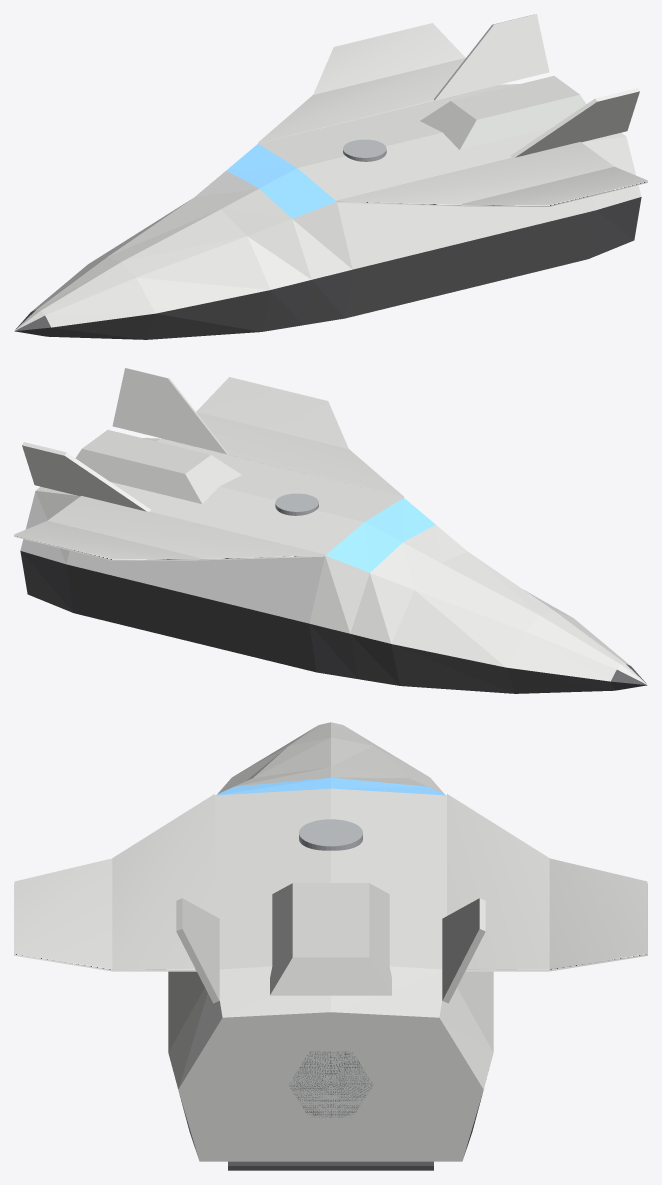
Rendered from _tmp_B4_deployed.glb.
3 renders of one model, top to bottom at view 1: azimuth 30°, elevation 25°; view 2: azimuth 150°, elevation 25°; view 3: azimuth 270°, elevation 25°, orthographic. The views are drawn at different scales.
Visible parts, largest first — view 1: hull, belly_tps, wing_in_port, kit_pod, wing_in_stbd, wing_out_stbd, fin_stbd, glazing, fin_port, wing_out_port, hatch_trunk; view 2: hull, belly_tps, wing_in_stbd, kit_pod, wing_in_port, wing_out_port, fin_port, glazing, fin_stbd, wing_out_stbd, hatch_trunk; view 3: hull, kit_pod, wing_in_stbd, wing_in_port, wing_out_stbd, wing_out_port, fin_stbd, fin_port, torch_nozzle, glazing, body_flap, hatch_trunk.
Boxes of the visible parts, x1,y1,x2,y2 form: hull: (14,84,641,330); belly_tps: (14,197,641,339); wing_in_port: (336,142,613,206); kit_pod: (420,76,586,149); wing_in_stbd: (258,58,500,143); wing_out_stbd: (313,23,465,94); fin_stbd: (434,14,549,100); glazing: (226,144,336,218); fin_port: (511,88,639,157); wing_out_port: (461,166,647,206); hatch_trunk: (343,139,386,161); hull: (20,438,647,684); belly_tps: (20,551,647,693); wing_in_stbd: (48,496,325,560); kit_pod: (75,430,241,503); wing_in_port: (161,412,403,497); wing_out_port: (196,377,348,448); fin_port: (112,368,227,454); glazing: (325,498,435,572); fin_stbd: (22,442,150,511); wing_out_stbd: (14,520,200,560); hatch_trunk: (275,493,318,515); hull: (168,722,493,1161); kit_pod: (270,883,391,995); wing_in_stbd: (447,794,549,971); wing_in_port: (112,794,214,971); wing_out_stbd: (549,858,647,971); wing_out_port: (14,858,112,971); fin_stbd: (442,898,485,1003); fin_port: (176,898,219,1003); torch_nozzle: (289,1051,373,1117); glazing: (216,777,445,795); body_flap: (228,1161,433,1170); hatch_trunk: (299,819,362,850).
Size of the model in its own units: 12.8 by 3.48 by 8.3.
